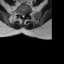CCS_severe_stenosis: (22, 12, 24, 19)
LFS_severe_stenosis: (26, 11, 28, 17)
LLS_normal: (24, 12, 26, 18)
RFS_stenosis: (19, 11, 21, 17)
RLS_normal: (21, 12, 22, 17)
